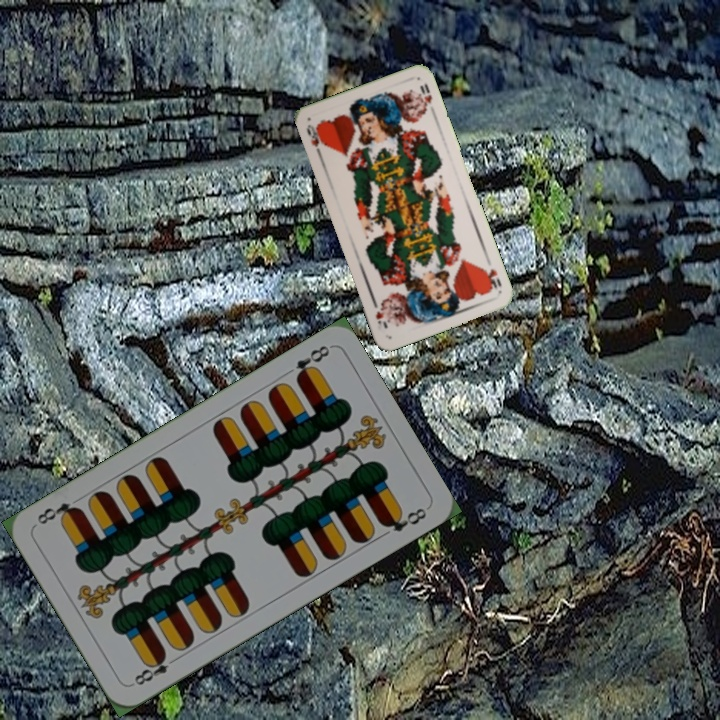E8: (128, 649, 182, 688), (291, 341, 333, 384)
HO: (302, 120, 325, 159), (479, 263, 504, 292)
